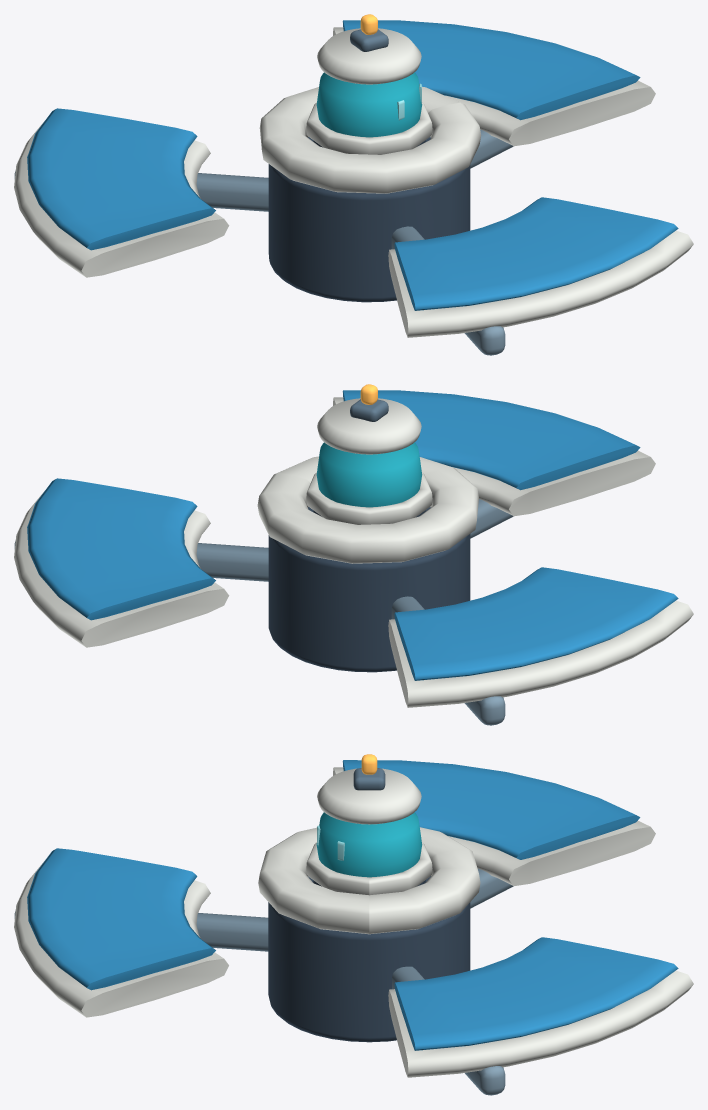
File: stellar_energy_array_lv1.glb
3 views of the same model, one above another, from view 1: azimuth 30°, elevation 25°; view 2: azimuth 150°, elevation 25°; view 3: azimuth 270°, elevation 25° (orthographic).
Visible parts, largest first — view 1: Structure; view 2: Structure; view 3: Structure.
Boxes of the visible parts, bbox=[...] form: Structure: bbox=[14, 14, 693, 355]; Structure: bbox=[14, 384, 693, 725]; Structure: bbox=[14, 754, 693, 1095].
Size of the model in its own units: 8.07 by 3.1 by 7.74.
